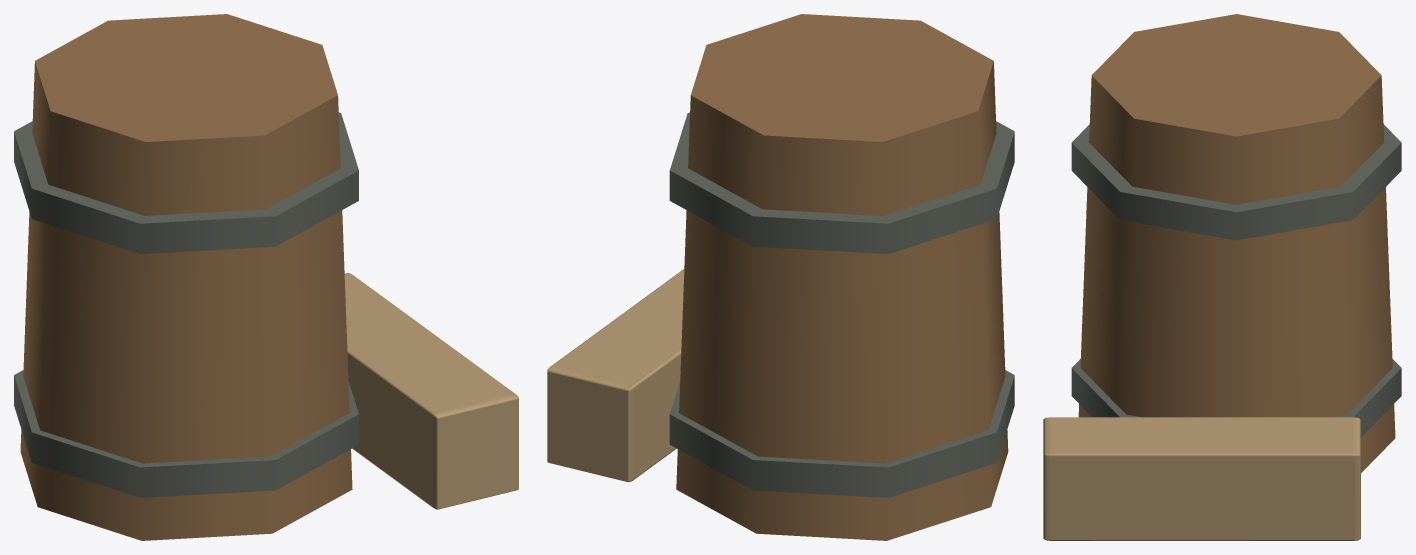
File: barrel-0.glb
The picture shows the model from 3 angles, left to right: view 1: azimuth 30°, elevation 25°; view 2: azimuth 150°, elevation 25°; view 3: azimuth 270°, elevation 25°; orthographic projection. The views are drawn at different scales.
Visible parts, largest first — view 1: barrel-0-0; view 2: barrel-0-0; view 3: barrel-0-0.
Part boxes in pixels (<box>): barrel-0-0: <box>14,14,518,540</box>; barrel-0-0: <box>547,14,1014,540</box>; barrel-0-0: <box>1043,14,1401,540</box>.
Bounding box in the file's own units: 0.594 × 0.58 × 0.519.
